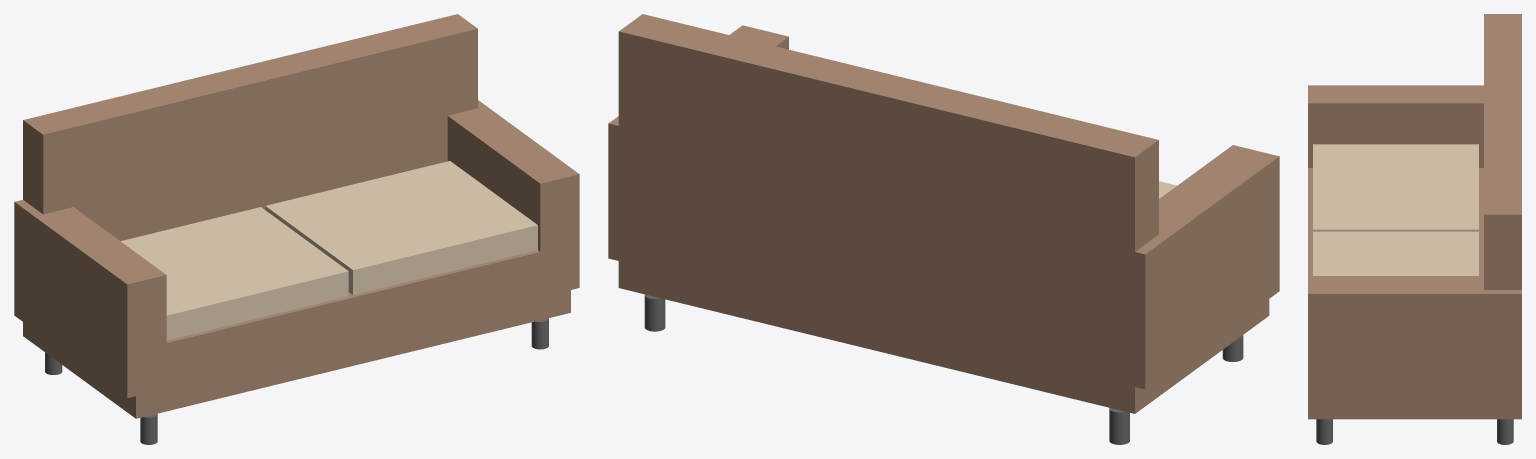
File: sofa_classic.glb
The picture shows the model from 3 angles, left to right: view 1: azimuth 30°, elevation 25°; view 2: azimuth 150°, elevation 25°; view 3: azimuth 270°, elevation 25°; orthographic projection. The views are drawn at different scales.
Visible parts, largest first — view 1: sofa_classic; view 2: sofa_classic; view 3: sofa_classic.
Part boxes in pixels (x1,y1,x2,y2): sofa_classic: [14, 14, 579, 444]; sofa_classic: [608, 14, 1279, 444]; sofa_classic: [1308, 14, 1521, 444].
Bounding box in the file's own units: 2.08 × 1.1 × 0.9.
